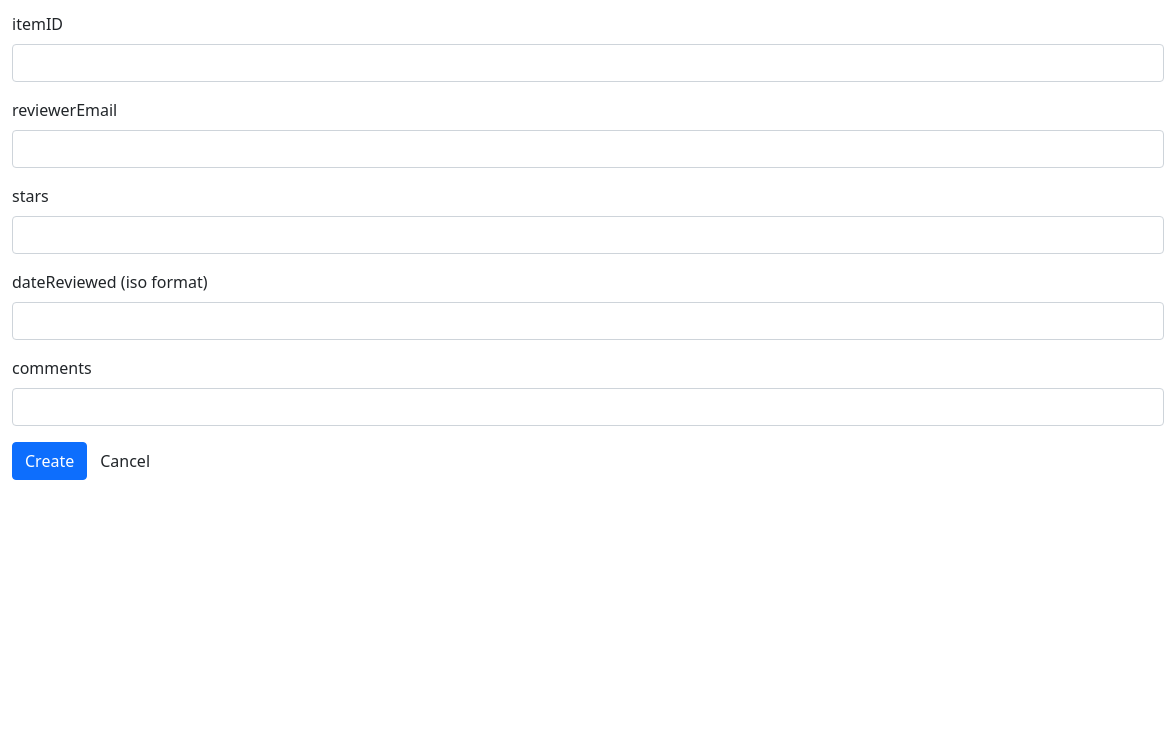
Test: ReviewForm tests › Correct Error messsages on missing input
Click the button with test id "ReviewForm-submit": {"x": 50, "y": 461} [12,442,87,480]
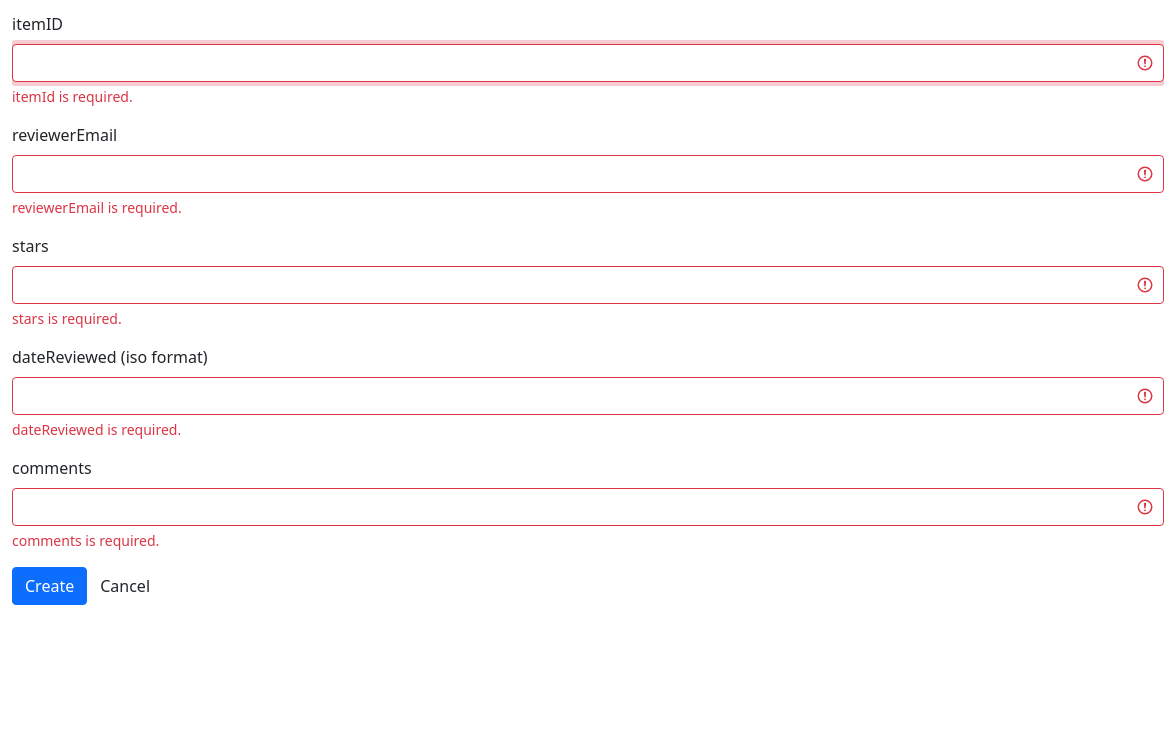
expect the text "itemId is required." is shown: met, box [12,87,133,106]
expect the text "reviewerEmail is required." is shown: met, box [12,198,182,217]
expect the text "stars is required." is shown: met, box [12,309,122,328]
